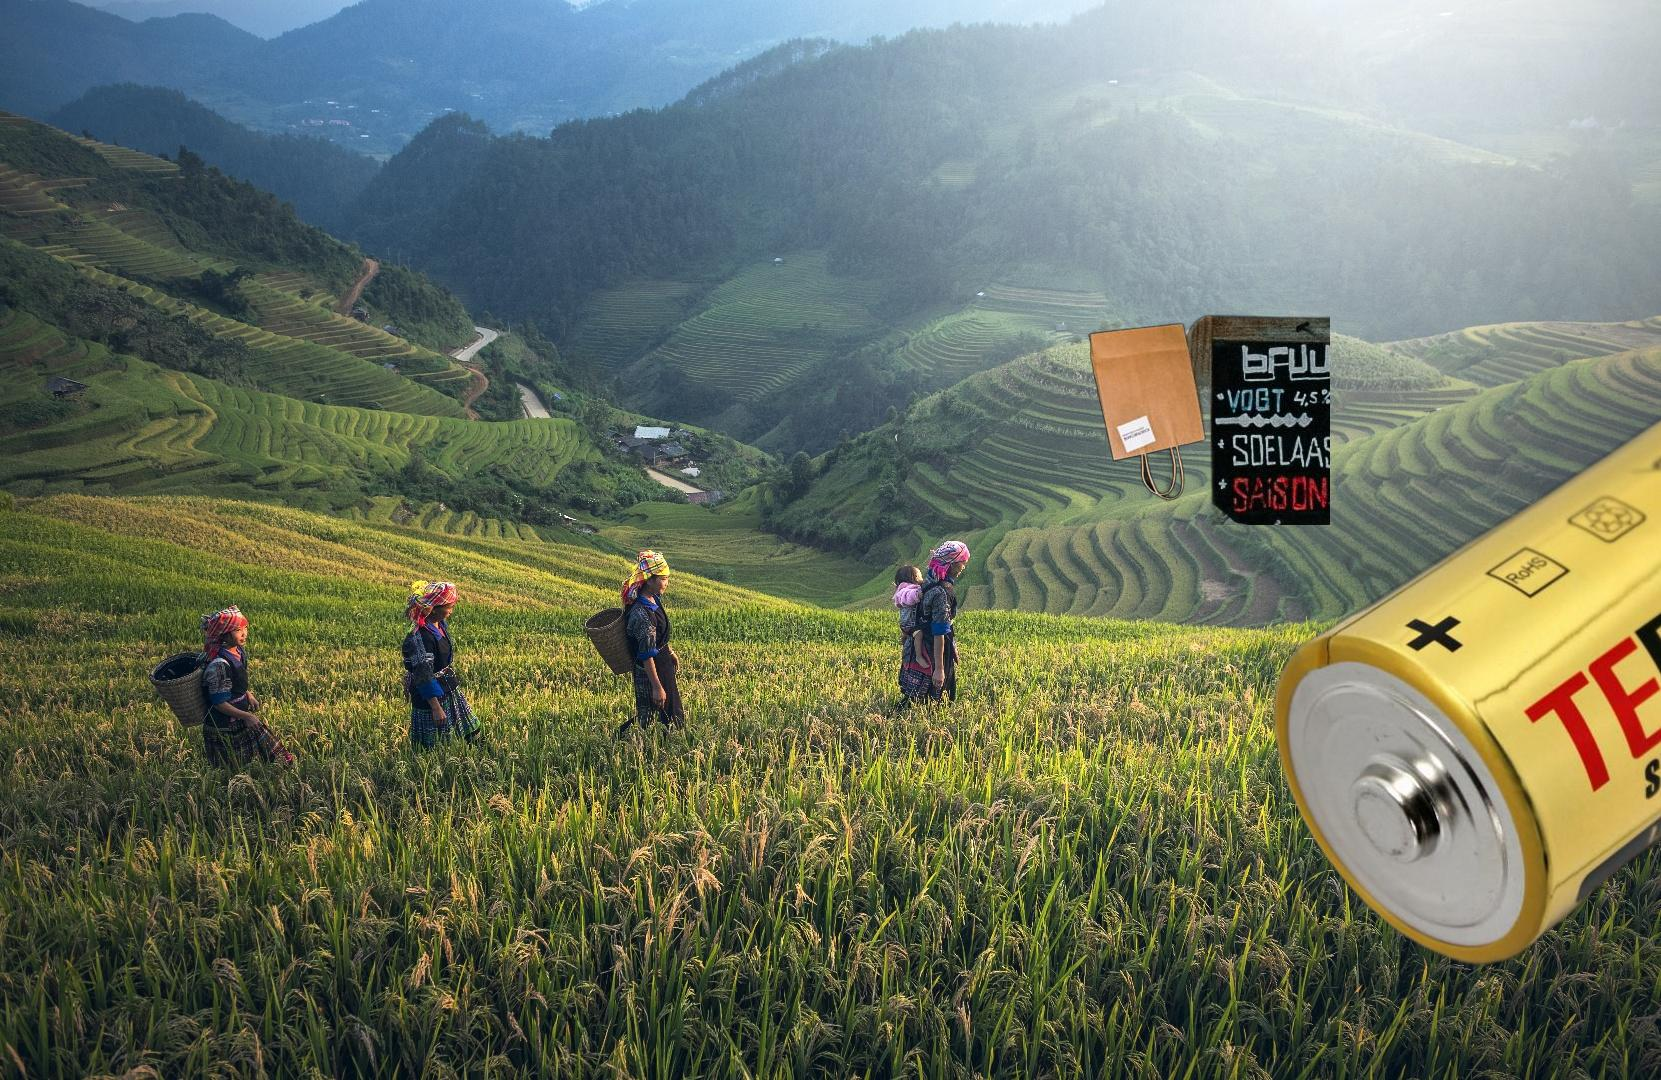battery: (1268, 368, 1661, 971)
paper-bag: (1086, 308, 1330, 525)
